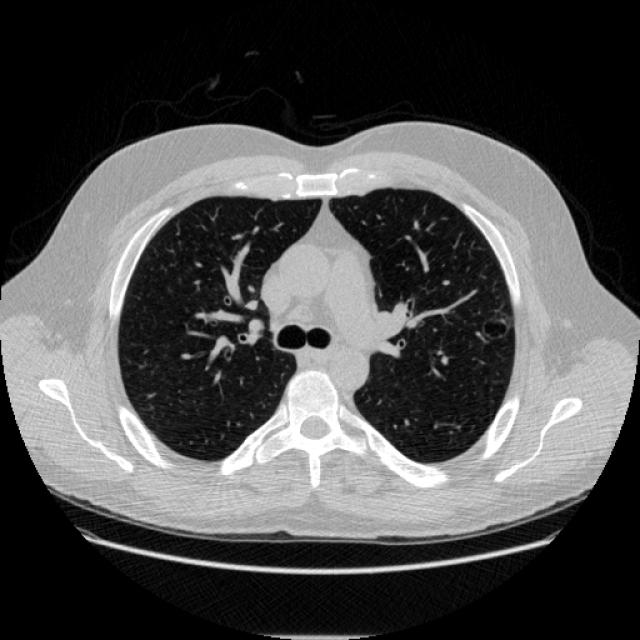nodule: (467, 296, 525, 354)
